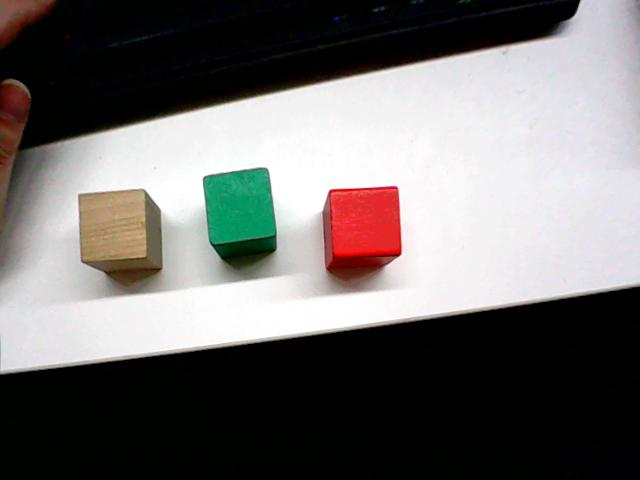green_box: (199, 163, 280, 263)
raw_box: (76, 185, 170, 275)
red_box: (320, 181, 405, 273)
